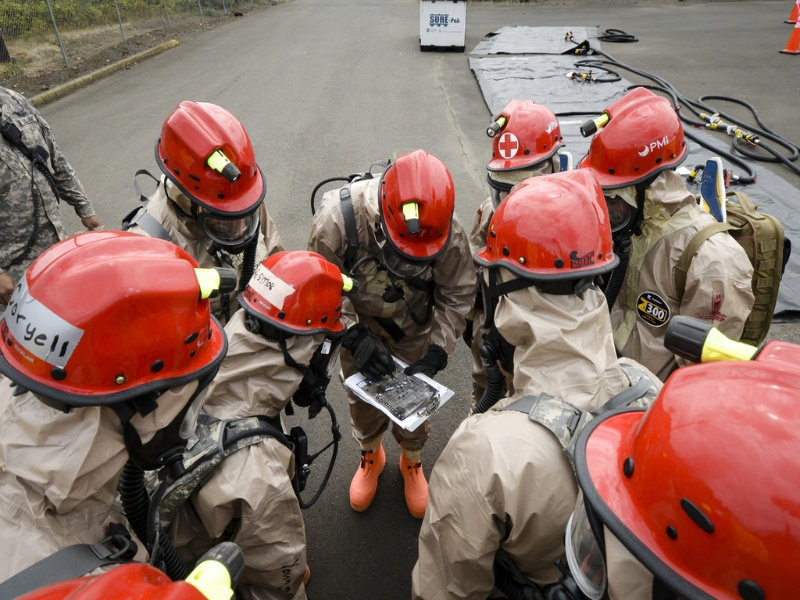helmet: (584, 359, 798, 594), (14, 230, 232, 403), (156, 100, 269, 214), (485, 175, 613, 275), (240, 249, 352, 335), (586, 86, 691, 165), (380, 152, 458, 257), (493, 100, 559, 164)
